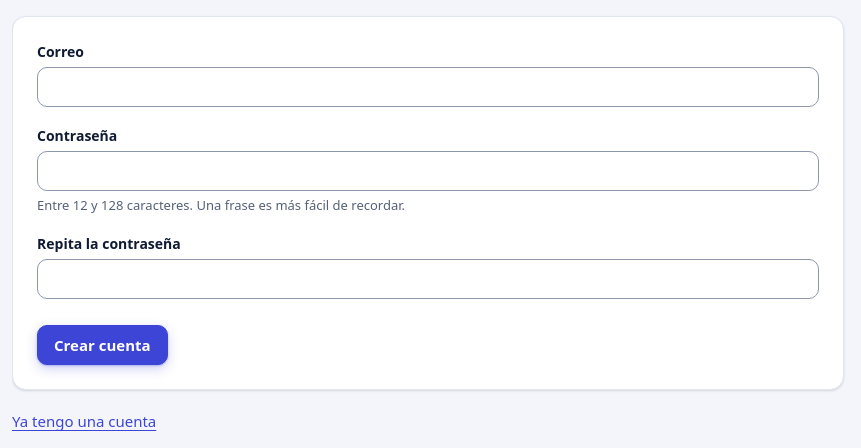
Scenario: Crear una cuenta › creates the account and says an email is on its way
The image size is (861, 448).
Type "ana@example.test" into the field labelled "Correo" at (428, 87), box [37, 67, 819, 107]
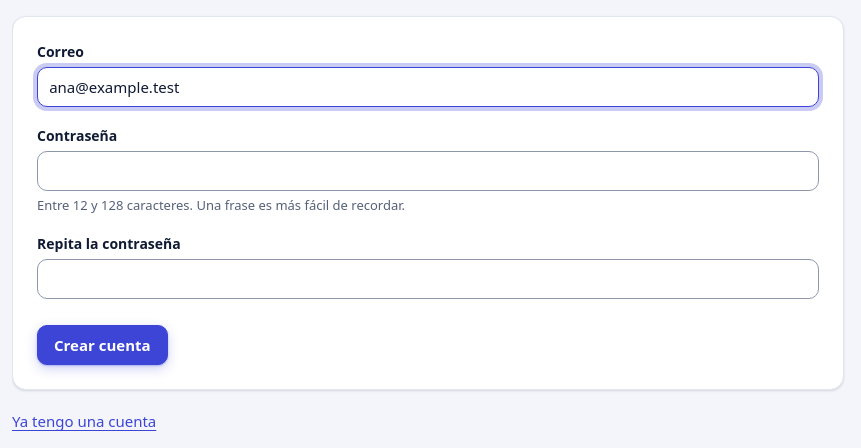
Type "una contraseña larga" into the password field labelled "Contraseña" at (428, 171), box [37, 151, 819, 191]
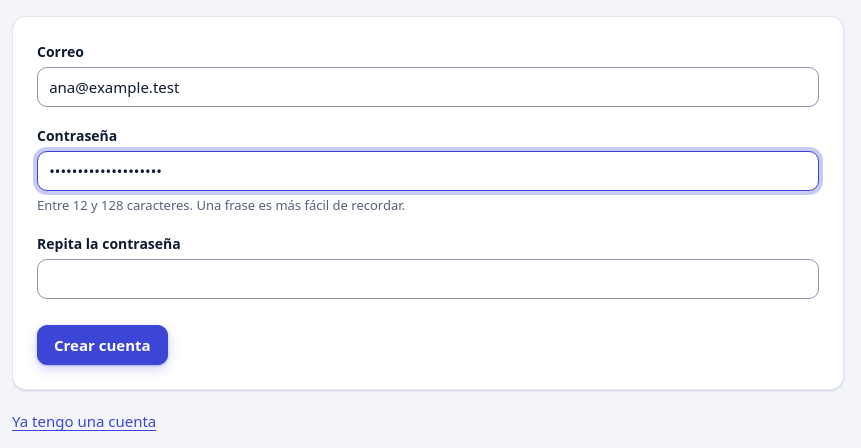
Type "una contraseña larga" into the password field labelled "Repita la contraseña" at (428, 279), box [37, 259, 819, 299]
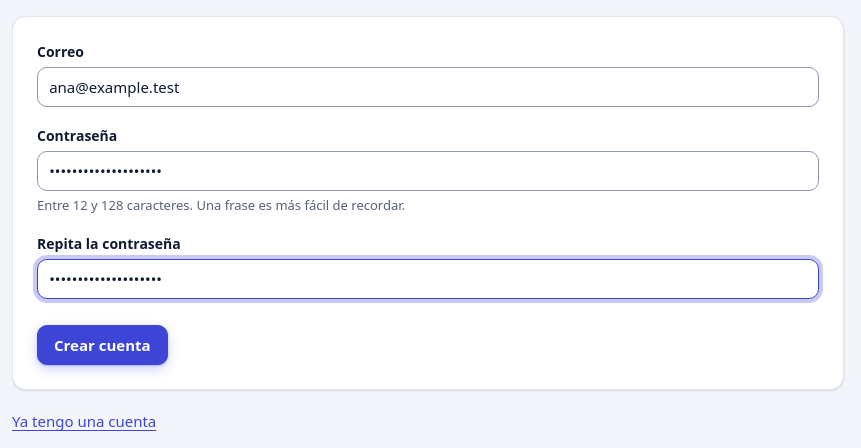
Click the button "Crear cuenta" at (102, 345), box [37, 325, 168, 366]
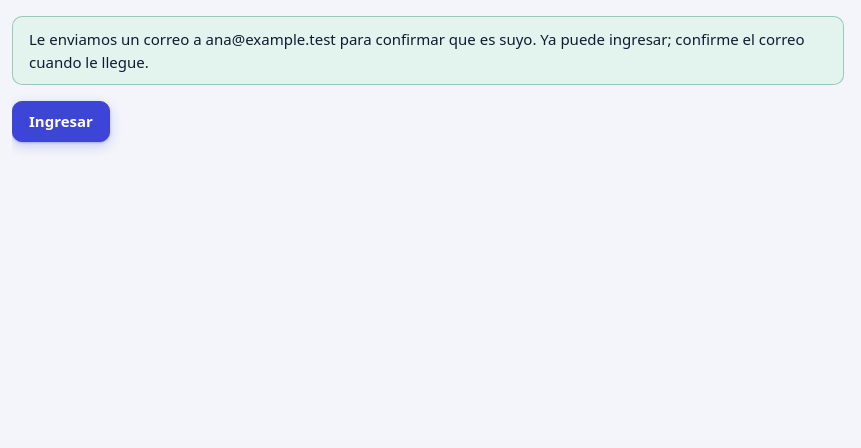
Check: the message shows "Le enviamos un correo a ana@example.test", box [12, 16, 844, 85]
